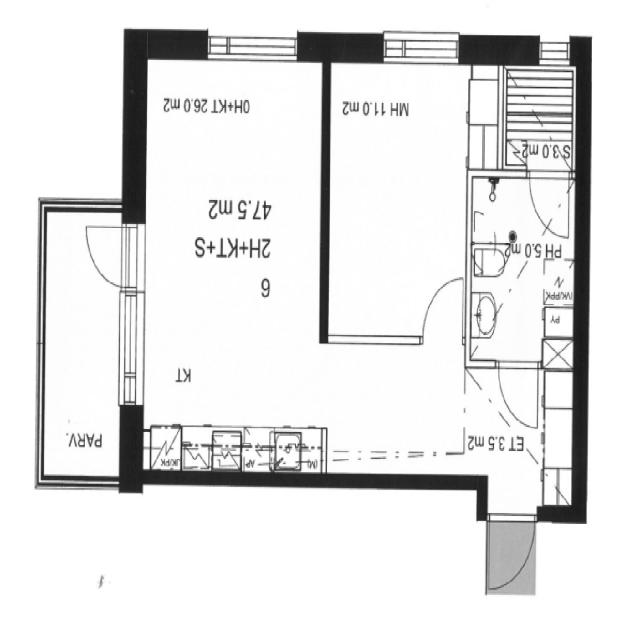door: (480, 506, 540, 593), (491, 354, 545, 436), (84, 222, 146, 290), (414, 268, 466, 344), (527, 165, 574, 243)
window: (115, 285, 148, 421), (200, 27, 305, 66), (373, 25, 467, 68), (529, 29, 575, 67)
zone: (139, 52, 323, 476), (323, 55, 478, 346), (40, 205, 123, 478), (468, 172, 578, 361), (497, 54, 581, 177)
